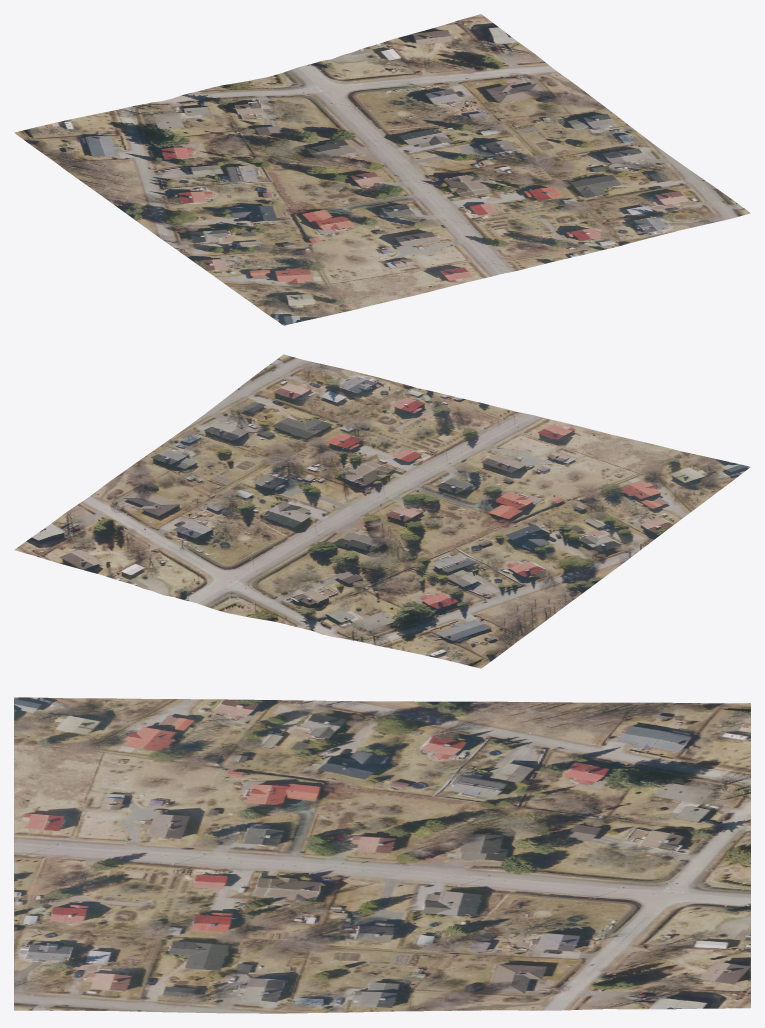
The model's file is CM_Terrain_24491892_6818360.fbx.
3 renders of one model, top to bottom at view 1: azimuth 30°, elevation 25°; view 2: azimuth 150°, elevation 25°; view 3: azimuth 270°, elevation 25°, orthographic. The views are drawn at different scales.
Visible parts, largest first — view 1: CM_Terrain_24491892_6818360_LOD0; view 2: CM_Terrain_24491892_6818360_LOD0; view 3: CM_Terrain_24491892_6818360_LOD0.
Boxes of the visible parts, x1,y1,x2,y2 form: CM_Terrain_24491892_6818360_LOD0: (14,14,750,325); CM_Terrain_24491892_6818360_LOD0: (14,354,750,668); CM_Terrain_24491892_6818360_LOD0: (14,697,750,1013).
Size of what is drawn, in the model's own units: 205 by 4.58 by 205.
